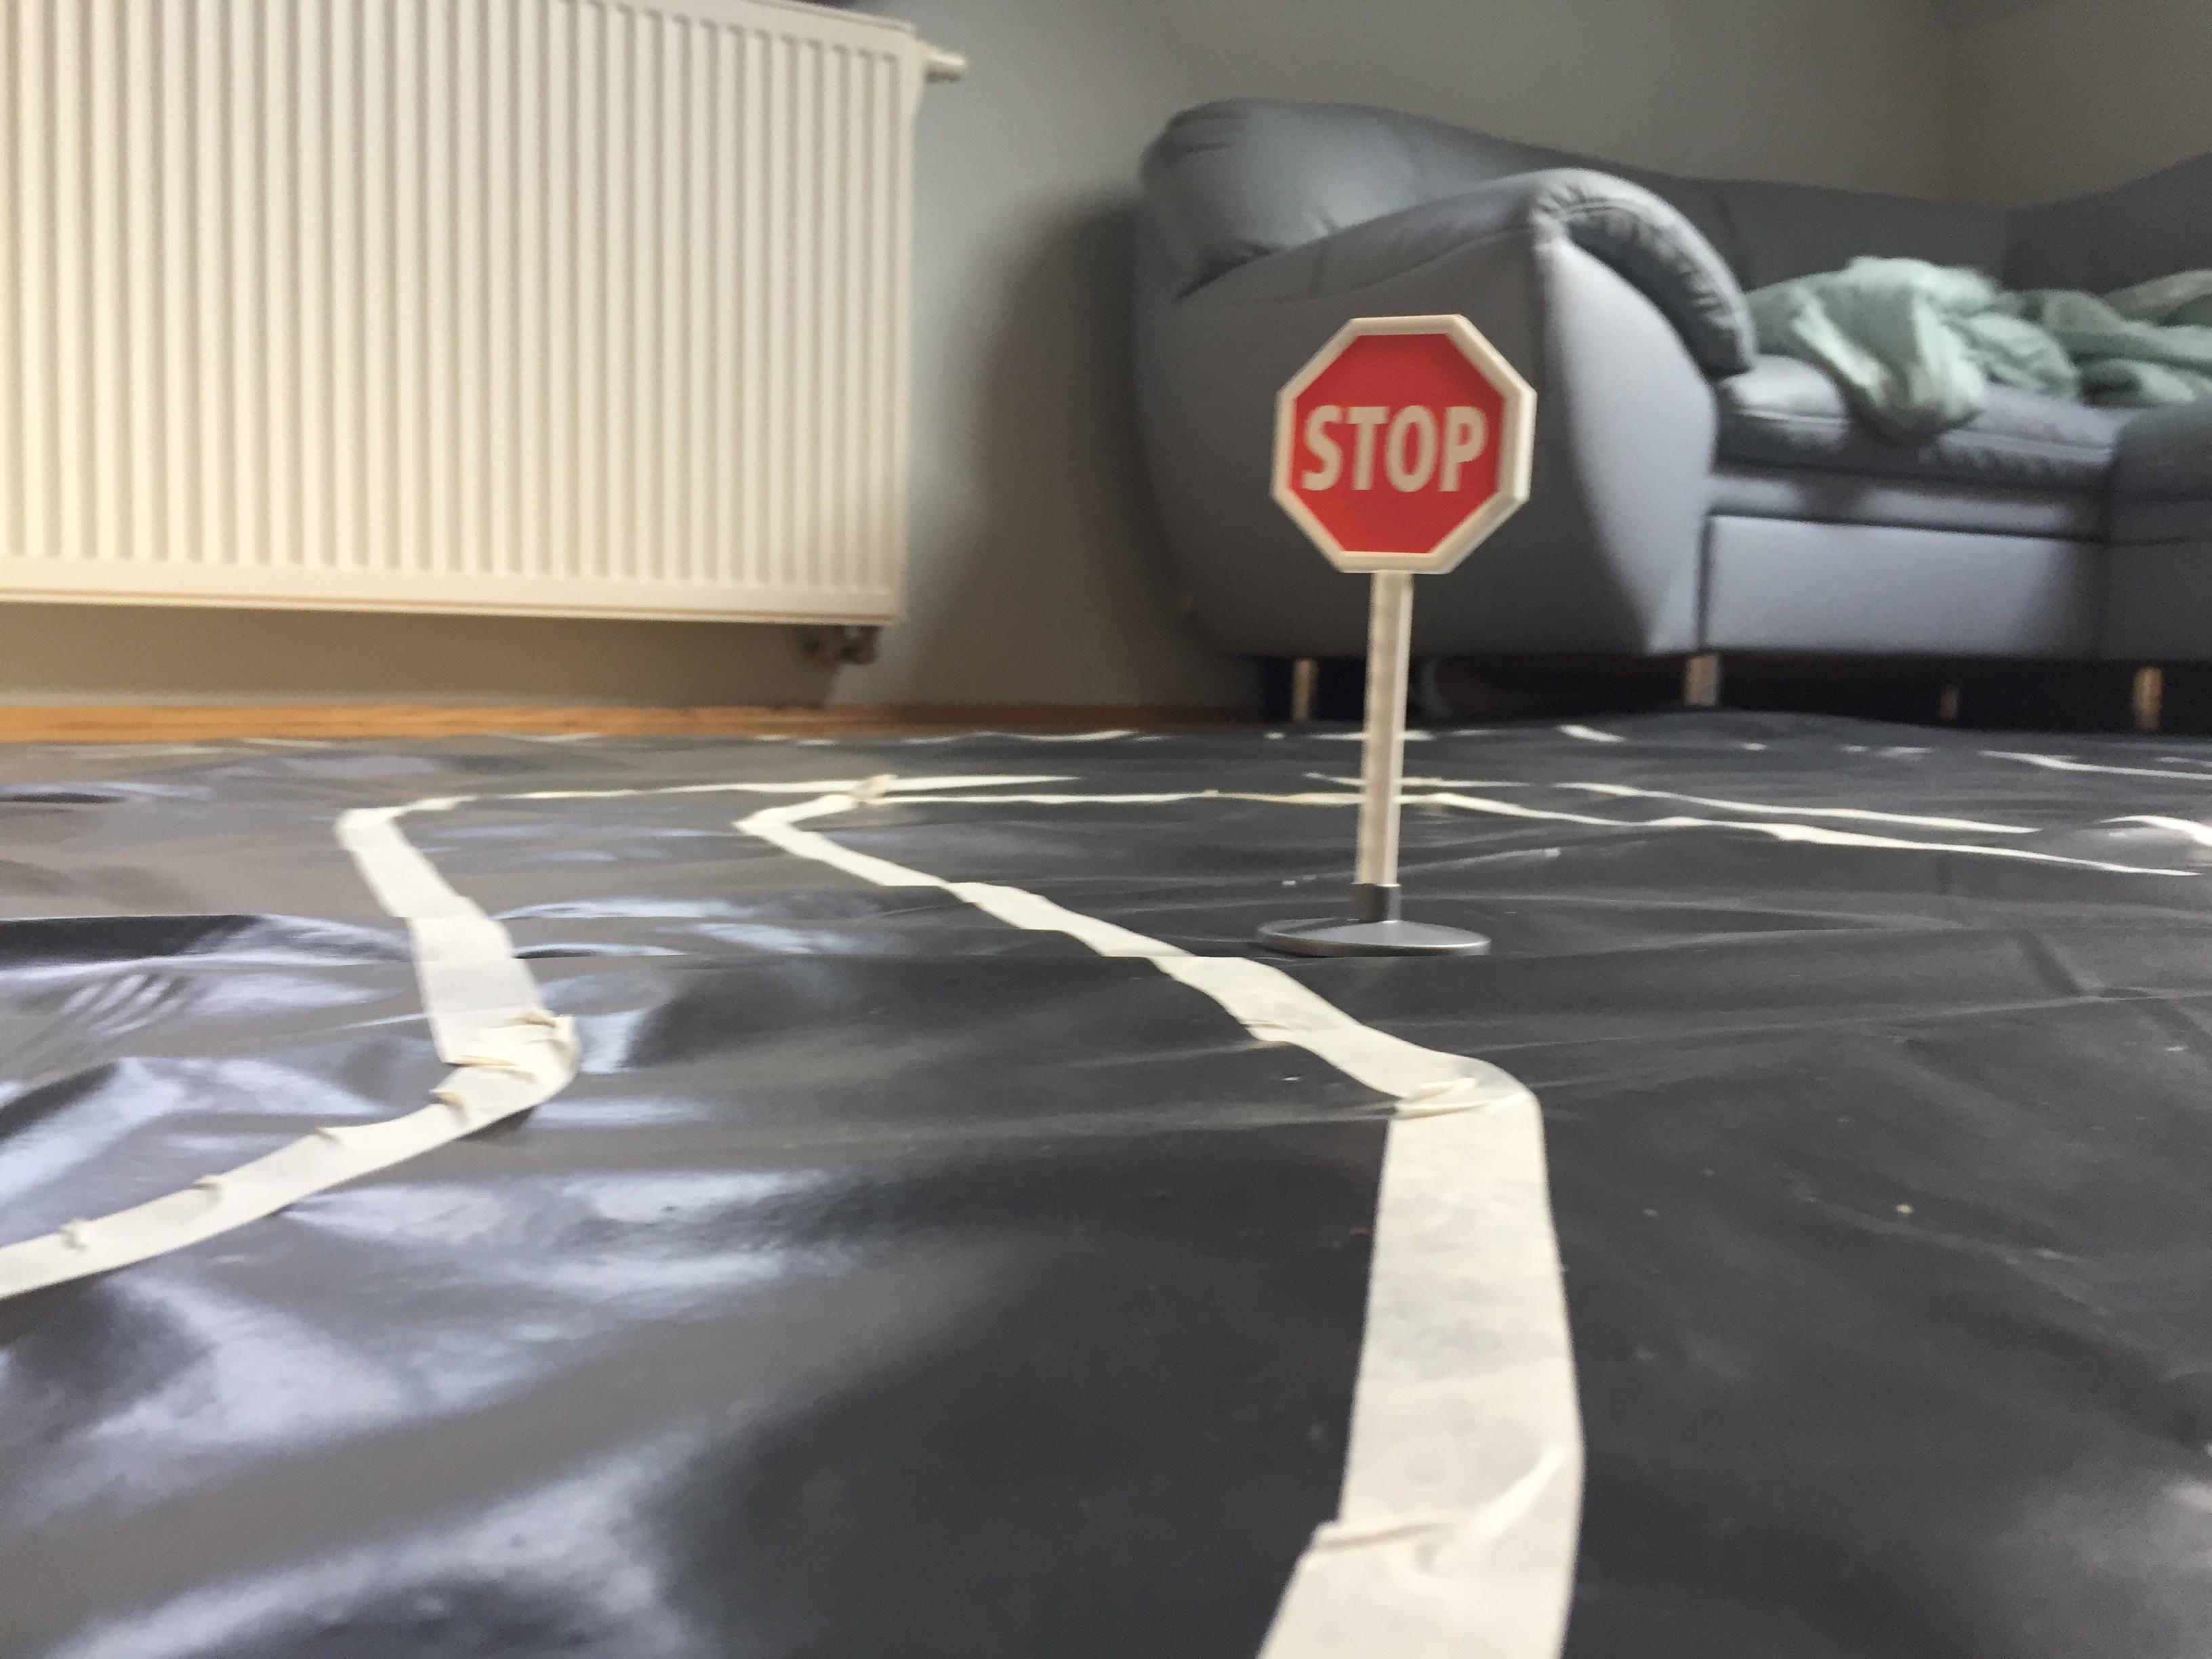stop: (1263, 305, 1545, 586)
